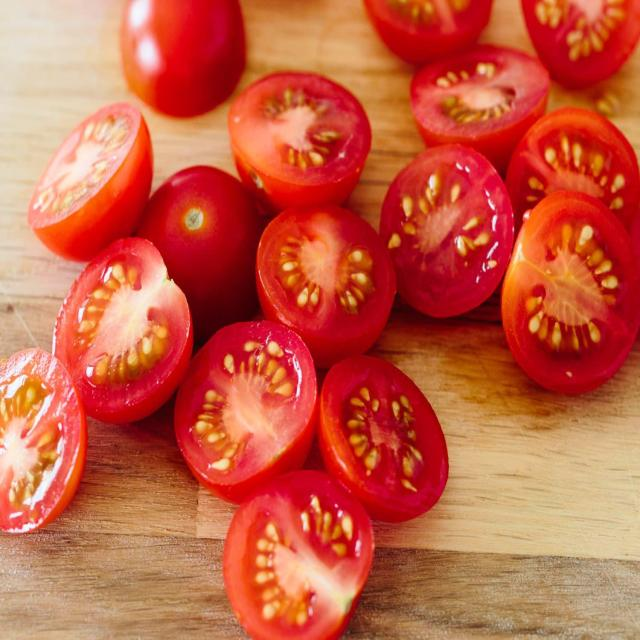Tomato: (51, 239, 194, 428), (220, 477, 378, 638), (388, 140, 516, 336), (177, 321, 319, 491), (508, 204, 628, 405), (319, 354, 456, 518), (257, 197, 398, 355), (230, 76, 373, 213), (1, 350, 86, 551), (410, 46, 561, 158), (142, 170, 252, 316)
